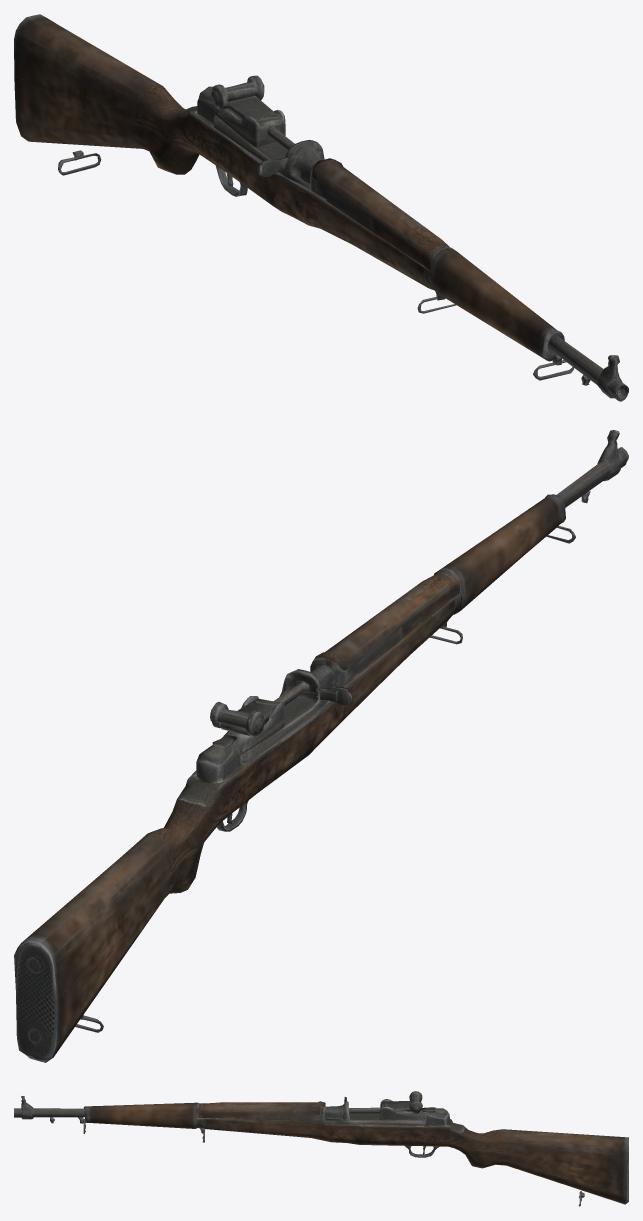
The model's file is m1-garand.fbx.
The picture shows the model from 3 angles, top to bottom: view 1: azimuth 30°, elevation 25°; view 2: azimuth 150°, elevation 25°; view 3: azimuth 270°, elevation 25°; orthographic projection. The views are drawn at different scales.
Parts seen in each view (by area): view 1: m1-garand; view 2: m1-garand; view 3: m1-garand.
Part boxes in pixels (x1,y1,x2,y2): m1-garand: (14, 14, 628, 401); m1-garand: (14, 430, 628, 1062); m1-garand: (14, 1091, 628, 1206).
Bounding box in the file's own units: 7.65 × 21.46 × 111.
1 material, 1 textured.
